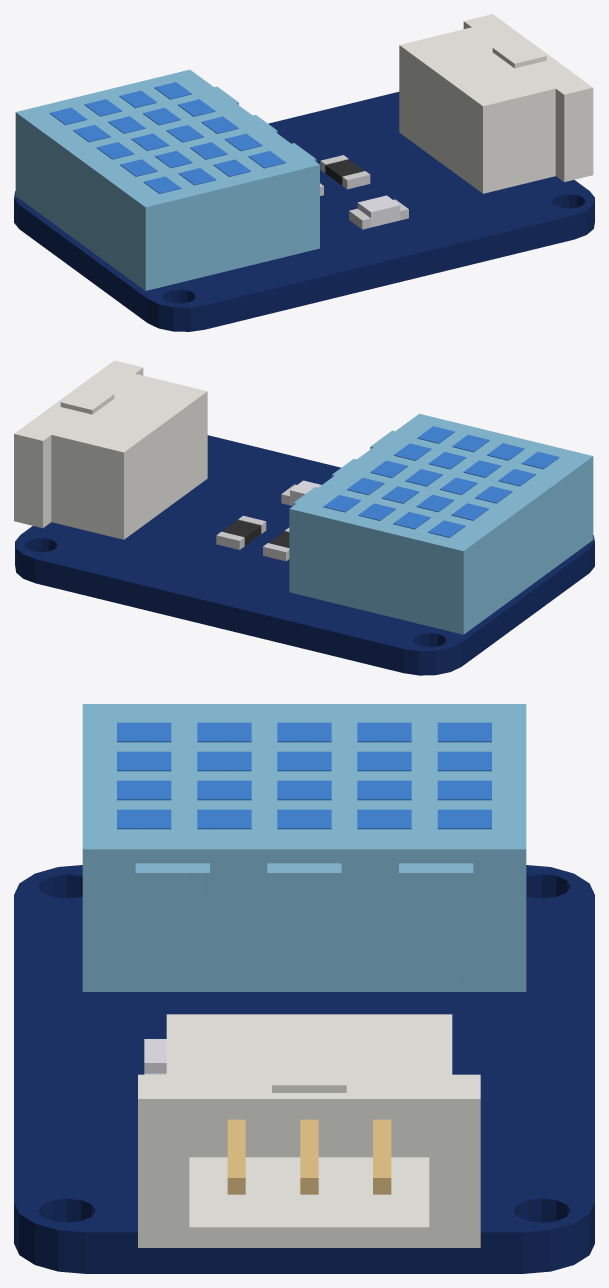
File: dht11.glb
3 views of the same model, one above another, from view 1: azimuth 30°, elevation 25°; view 2: azimuth 150°, elevation 25°; view 3: azimuth 270°, elevation 25° (orthographic). The views are drawn at different scales.
Parts seen in each view (by area): view 1: dht11_pcb, dht11_sensor, dht11_xh, dht11_grille, dht11_led_power, dht11_r_1_ends, dht11, dht11_led_power_ends; view 2: dht11_pcb, dht11_sensor, dht11_xh, dht11_grille, dht11, dht11_r_1_ends; view 3: dht11_pcb, dht11_sensor, dht11_xh, dht11_ribs, dht11_grille, dht11, dht11_led_power.
Part boxes in pixels (x1,y1,x2,y2): dht11_pcb: (14,92,594,331); dht11_sensor: (15,69,319,290); dht11_xh: (399,14,593,193); dht11_grille: (49,82,285,193); dht11_led_power: (357,195,400,227); dht11_r_1_ends: (320,155,370,189); dht11: (325,159,364,185); dht11_led_power_ends: (349,199,408,229); dht11_pcb: (15,435,594,675); dht11_sensor: (289,414,593,634); dht11_xh: (14,360,207,539); dht11_grille: (323,426,559,537); dht11: (222,520,289,547); dht11_r_1_ends: (216,515,266,549); dht11_pcb: (14,865,594,1273); dht11_sensor: (82,704,526,991); dht11_xh: (138,1014,480,1247); dht11_ribs: (135,863,473,987); dht11_grille: (117,722,491,829); dht11: (227,1119,391,1194); dht11_led_power: (144,1039,166,1073).
Size of the model in its own units: 0.0319 by 0.00775 by 0.0203.
